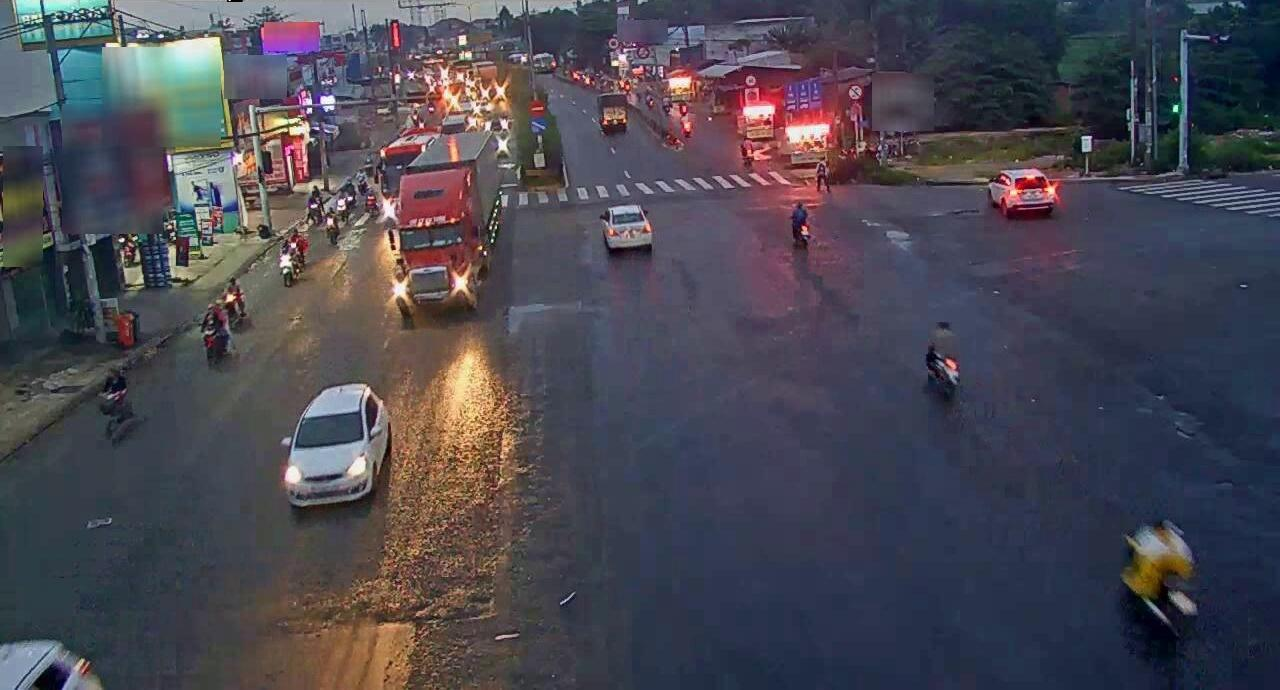xe container: (393, 140, 493, 307)
xe dap: (97, 361, 136, 442)
xe hoi: (280, 381, 389, 507), (592, 192, 663, 260)
xe may: (1122, 514, 1203, 647), (921, 316, 966, 400), (785, 194, 813, 247)
